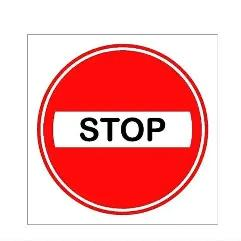Stop: (38, 49, 204, 208)
